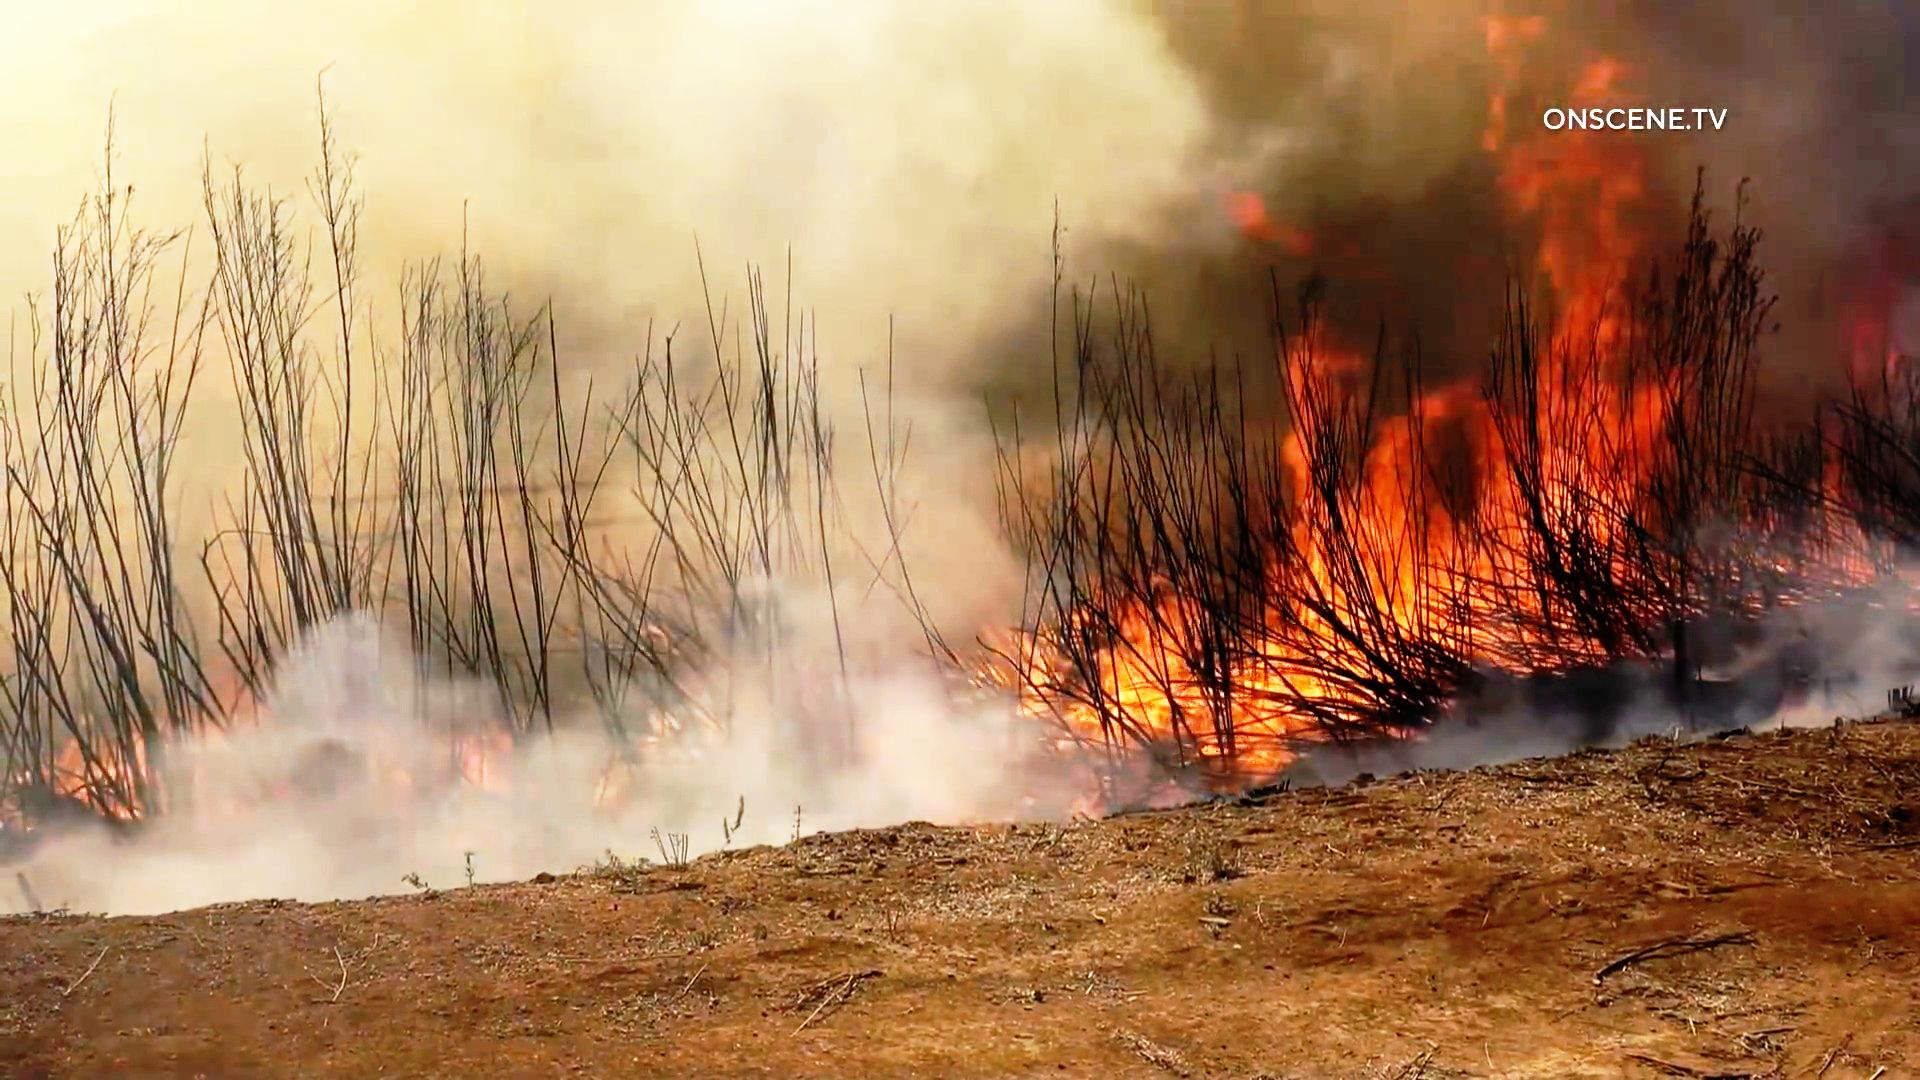fire: (1286, 334, 1631, 653), (990, 574, 1325, 806)
smoke: (1055, 3, 1491, 323), (295, 633, 923, 812)
